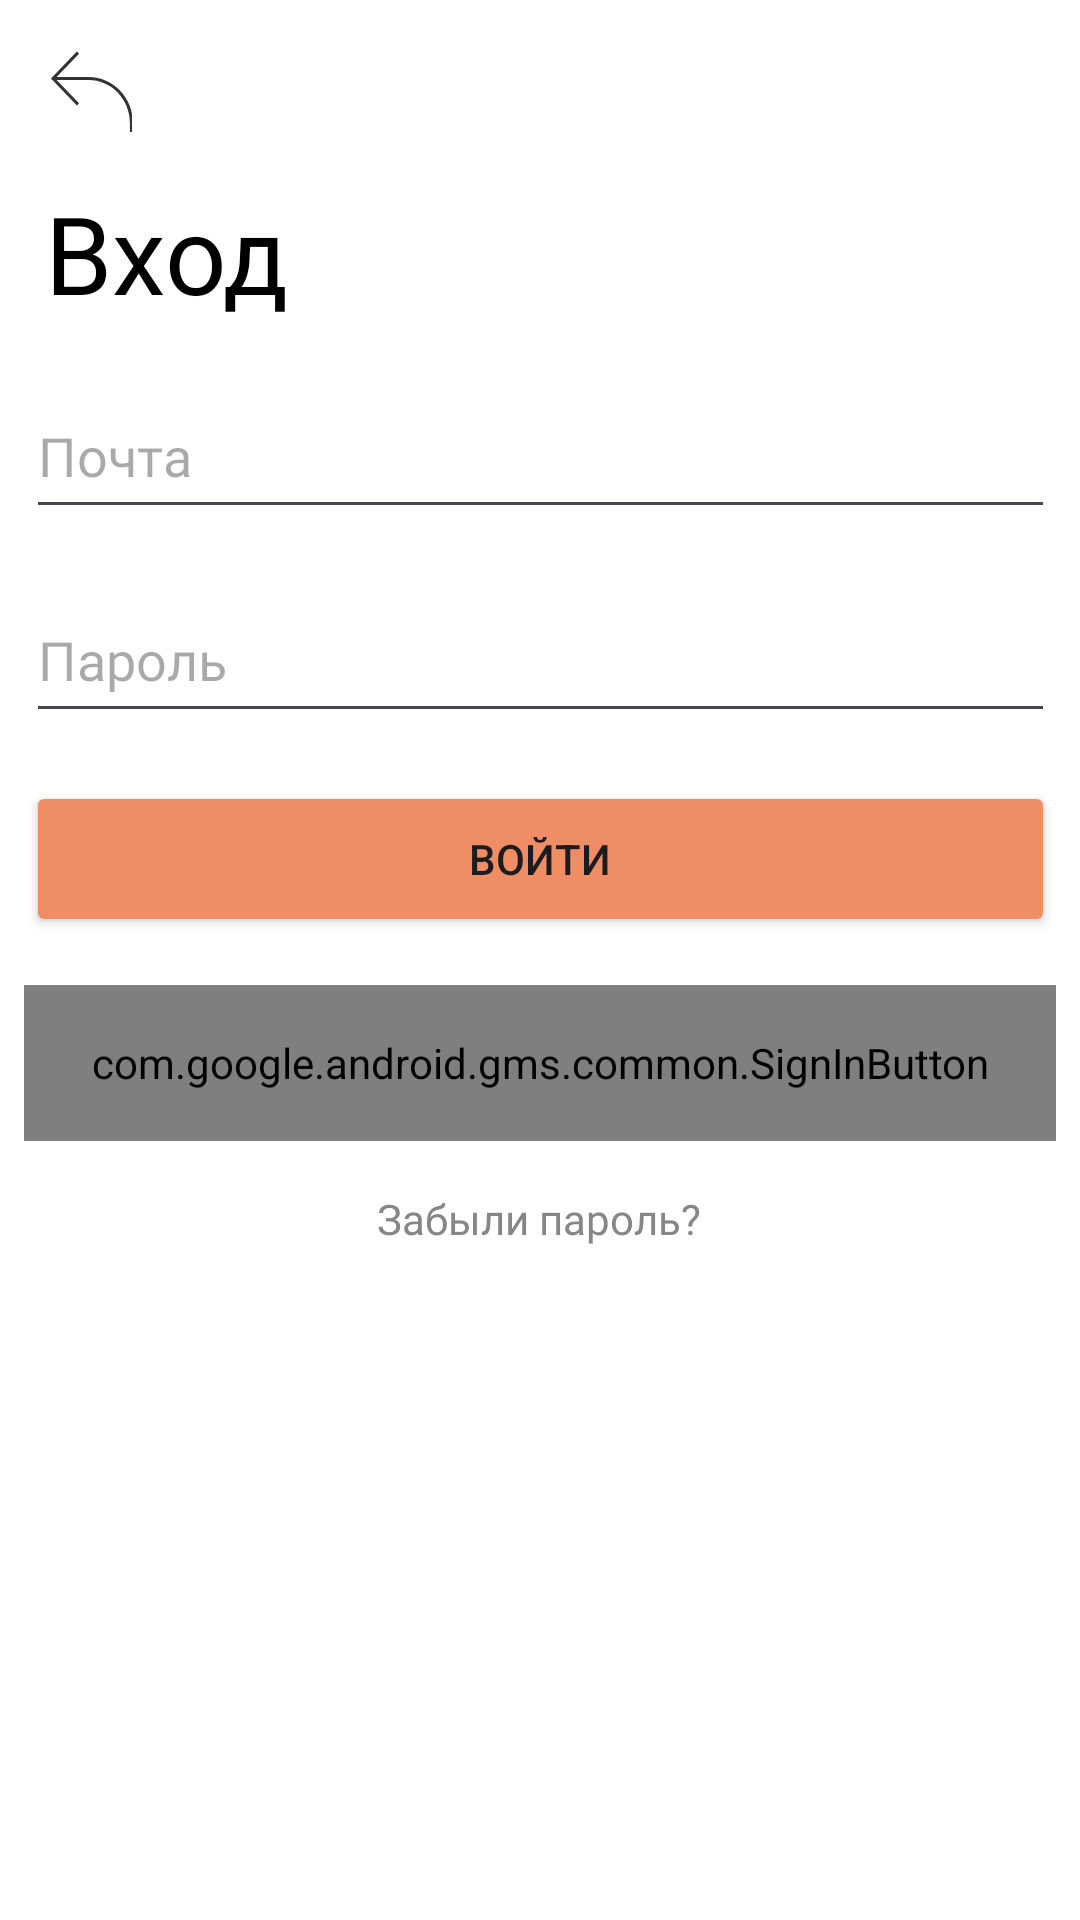

Icon bounding boxes for this 1080×1920 phone screenshot, format bbox=[x1, y1, x2, y2]:
exit arrow back: bbox=[51, 51, 132, 132]
